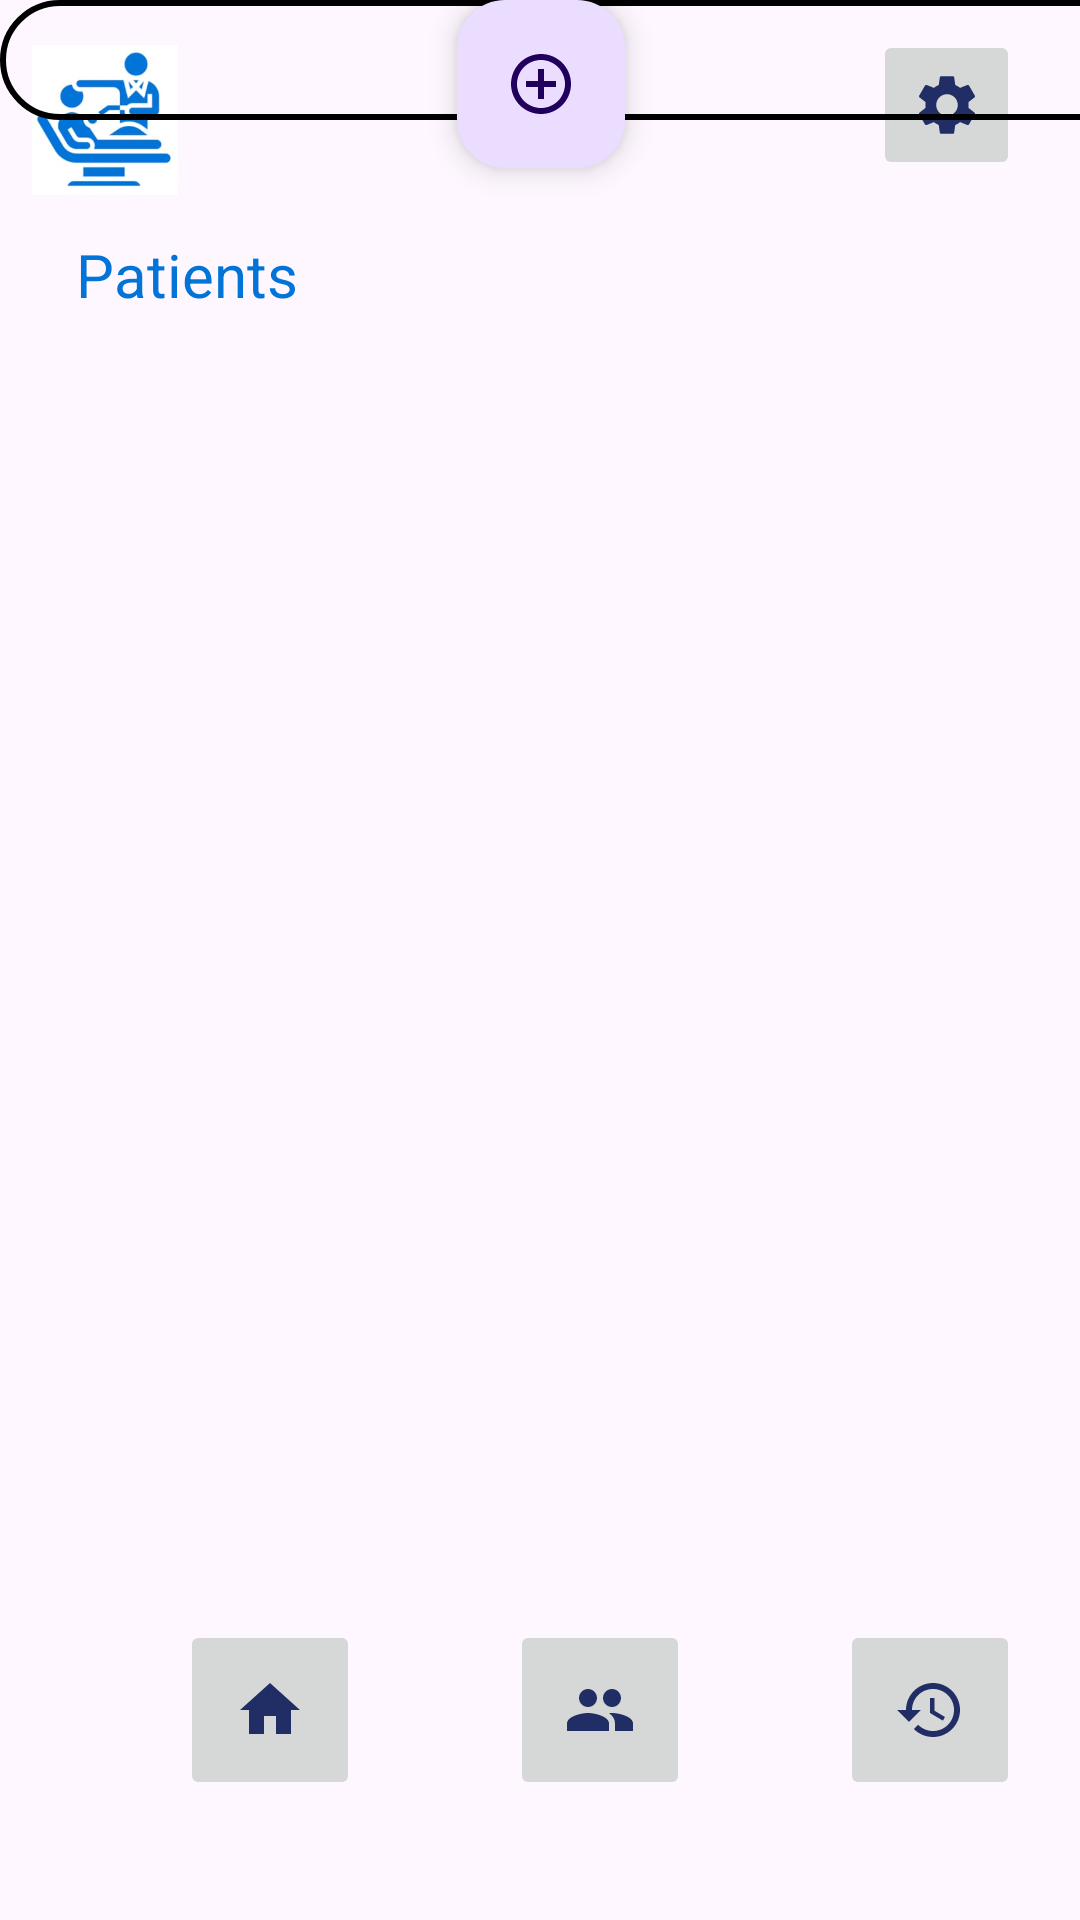

Point at icon controls on the screen. Image size 1080px x 1920px, points as point (x, y).
add: point (541, 84)
History: point (930, 1710)
Home: point (270, 1710)
Patient: point (600, 1710)
